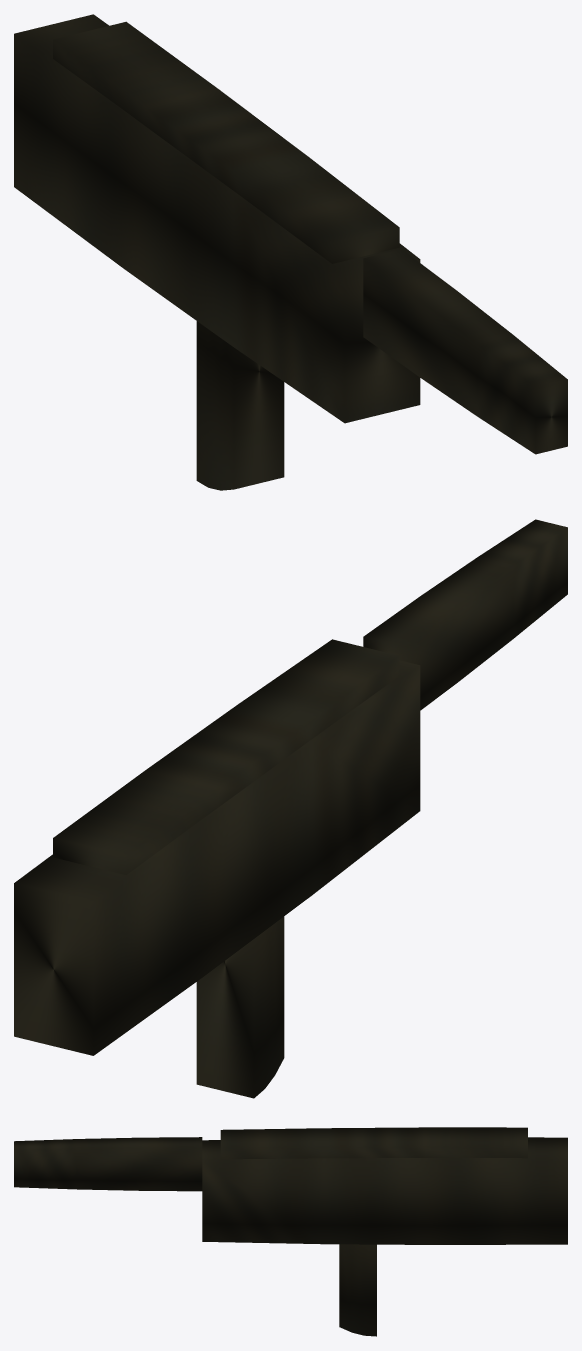
The model's file is wpn_rpg7_launcher.glb.
3 views of the same model, one above another, from view 1: azimuth 30°, elevation 25°; view 2: azimuth 150°, elevation 25°; view 3: azimuth 270°, elevation 25° (orthographic). The views are drawn at different scales.
Parts seen in each view (by area): view 1: SubMesh_0_Receiver, SubMesh_1_Action, SubMesh_3_BarrelSight, SubMesh_2_Magazine; view 2: SubMesh_0_Receiver, SubMesh_1_Action, SubMesh_3_BarrelSight, SubMesh_2_Magazine; view 3: SubMesh_0_Receiver, SubMesh_3_BarrelSight, SubMesh_1_Action, SubMesh_2_Magazine.
Boxes of the visible parts, x1,y1,x2,y2 form: SubMesh_0_Receiver: [14, 14, 420, 423]; SubMesh_1_Action: [53, 21, 399, 263]; SubMesh_3_BarrelSight: [363, 249, 567, 454]; SubMesh_2_Magazine: [196, 321, 284, 490]; SubMesh_0_Receiver: [14, 660, 420, 1055]; SubMesh_1_Action: [53, 639, 399, 874]; SubMesh_3_BarrelSight: [363, 519, 567, 710]; SubMesh_2_Magazine: [196, 916, 284, 1098]; SubMesh_0_Receiver: [202, 1137, 567, 1244]; SubMesh_3_BarrelSight: [14, 1137, 202, 1191]; SubMesh_1_Action: [220, 1127, 527, 1159]; SubMesh_2_Magazine: [339, 1244, 376, 1336].
Size of the model in its own units: 0.0961 by 0.3926 by 1.03.
1 material, 1 textured.
